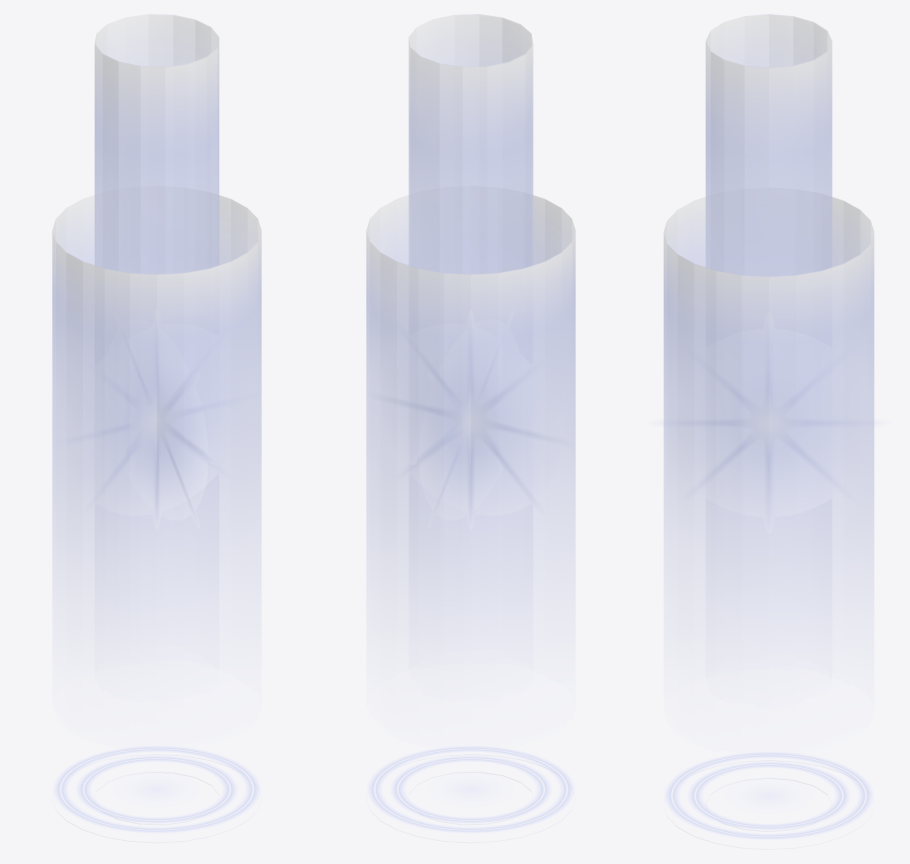
The model's file is fx_up_chakram.glb.
3 views of the same model, side by side, from view 1: azimuth 30°, elevation 25°; view 2: azimuth 150°, elevation 25°; view 3: azimuth 270°, elevation 25° (orthographic).
Visible parts, largest first — view 1: fx_up_pillar, fx_up_star, fx_up_ring; view 2: fx_up_pillar, fx_up_star, fx_up_ring; view 3: fx_up_pillar, fx_up_star, fx_up_ring.
Part boxes in pixels (left/top/right/bottom): fx_up_pillar: left=52, top=14, right=261, bottom=842; fx_up_star: left=64, top=347, right=239, bottom=517; fx_up_ring: left=54, top=746, right=259, bottom=832; fx_up_pillar: left=366, top=14, right=575, bottom=842; fx_up_star: left=387, top=342, right=563, bottom=516; fx_up_ring: left=368, top=746, right=573, bottom=832; fx_up_pillar: left=663, top=14, right=874, bottom=849; fx_up_star: left=661, top=352, right=876, bottom=510; fx_up_ring: left=665, top=752, right=872, bottom=839.
Bounding box in the file's own units: 1.2 × 4 × 1.2.
3 materials, 3 textured.
